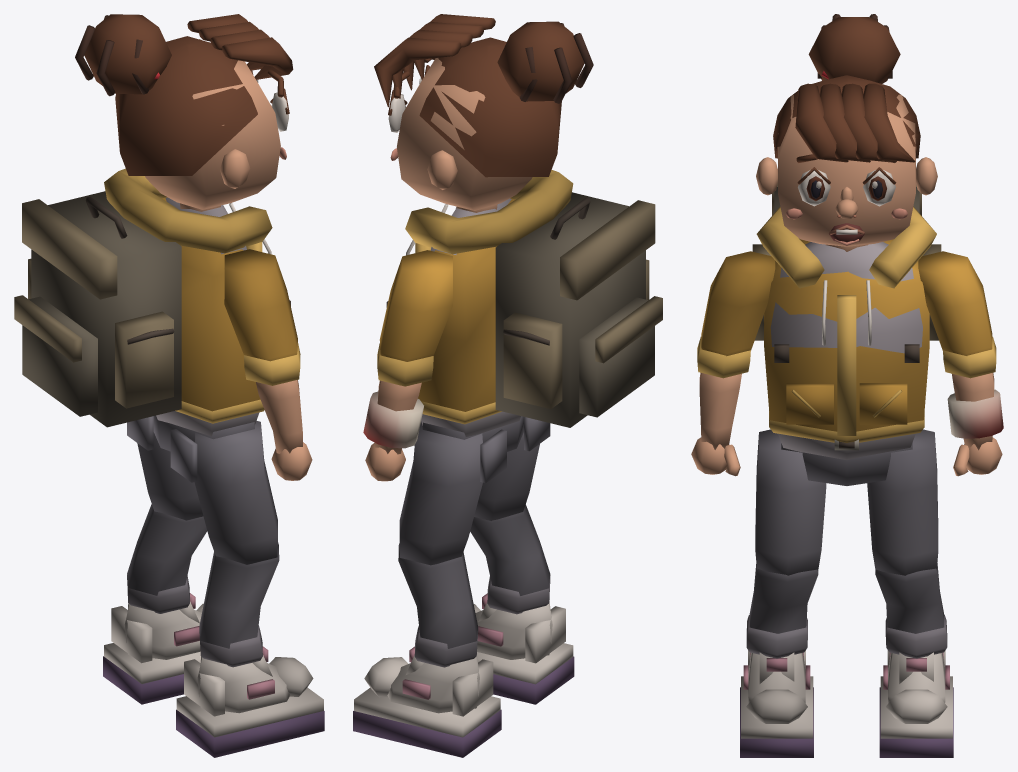
3 renders of one model, left to right at view 1: azimuth 30°, elevation 25°; view 2: azimuth 150°, elevation 25°; view 3: azimuth 270°, elevation 25°, orthographic. The views are drawn at different scales.
Visible parts, largest first — view 1: torso_pal_picketWhite, head_pal_picketWhite, footR_pal_picketWhite, legR_pal_picketWhite, footL_pal_picketWhite, shinR_pal_picketWhite, armR_pal_picketWhite, shinL_pal_picketWhite, foreArmR_pal_picketWhite, legL_pal_picketWhite, hip_pal_picketWhite, handR_pal_picketWhite; view 2: torso_pal_picketWhite, head_pal_picketWhite, footL_pal_picketWhite, legL_pal_picketWhite, footR_pal_picketWhite, shinL_pal_picketWhite, armL_pal_picketWhite, shinR_pal_picketWhite, foreArmL_pal_picketWhite, legR_pal_picketWhite, hip_pal_picketWhite, handL_pal_picketWhite; view 3: torso_pal_picketWhite, head_pal_picketWhite, legR_pal_picketWhite, legL_pal_picketWhite, footL_pal_picketWhite, footR_pal_picketWhite, armR_pal_picketWhite, armL_pal_picketWhite, shinL_pal_picketWhite, shinR_pal_picketWhite, foreArmL_pal_picketWhite, foreArmR_pal_picketWhite (+3 smaller).
Boxes of the visible parts, left/top/right/bottom form: torso_pal_picketWhite: left=14, top=168, right=290, bottom=436; head_pal_picketWhite: left=75, top=14, right=293, bottom=211; footR_pal_picketWhite: left=176, top=646, right=324, bottom=757; legR_pal_picketWhite: left=194, top=420, right=277, bottom=564; footL_pal_picketWhite: left=103, top=593, right=203, bottom=704; shinR_pal_picketWhite: left=199, top=542, right=279, bottom=667; armR_pal_picketWhite: left=224, top=249, right=297, bottom=361; shinL_pal_picketWhite: left=127, top=504, right=207, bottom=613; foreArmR_pal_picketWhite: left=244, top=342, right=302, bottom=453; legL_pal_picketWhite: left=137, top=432, right=203, bottom=520; hip_pal_picketWhite: left=127, top=415, right=254, bottom=482; handR_pal_picketWhite: left=271, top=442, right=312, bottom=480; torso_pal_picketWhite: left=386, top=170, right=662, bottom=436; head_pal_picketWhite: left=374, top=14, right=593, bottom=212; footL_pal_picketWhite: left=353, top=646, right=501, bottom=757; legL_pal_picketWhite: left=399, top=421, right=482, bottom=565; footR_pal_picketWhite: left=473, top=593, right=574, bottom=704; shinL_pal_picketWhite: left=398, top=543, right=478, bottom=667; armL_pal_picketWhite: left=379, top=250, right=452, bottom=361; shinR_pal_picketWhite: left=470, top=504, right=550, bottom=614; foreArmL_pal_picketWhite: left=363, top=343, right=433, bottom=454; legR_pal_picketWhite: left=474, top=432, right=539, bottom=520; hip_pal_picketWhite: left=422, top=416, right=550, bottom=483; handL_pal_picketWhite: left=365, top=443, right=405, bottom=481; torso_pal_picketWhite: left=752, top=183, right=941, bottom=460; head_pal_picketWhite: left=756, top=14, right=937, bottom=251; legR_pal_picketWhite: left=755, top=429, right=826, bottom=575; legL_pal_picketWhite: left=867, top=429, right=938, bottom=575; footL_pal_picketWhite: left=879, top=650, right=953, bottom=757; footR_pal_picketWhite: left=740, top=650, right=813, bottom=757; armR_pal_picketWhite: left=701, top=251, right=775, bottom=356; armL_pal_picketWhite: left=918, top=251, right=992, bottom=355; shinL_pal_picketWhite: left=875, top=563, right=947, bottom=658; shinR_pal_picketWhite: left=746, top=564, right=818, bottom=658; foreArmL_pal_picketWhite: left=943, top=336, right=1003, bottom=450; foreArmR_pal_picketWhite: left=697, top=337, right=750, bottom=449.
Size of the model in its own units: 0.5088 by 1.44 by 0.6043.
